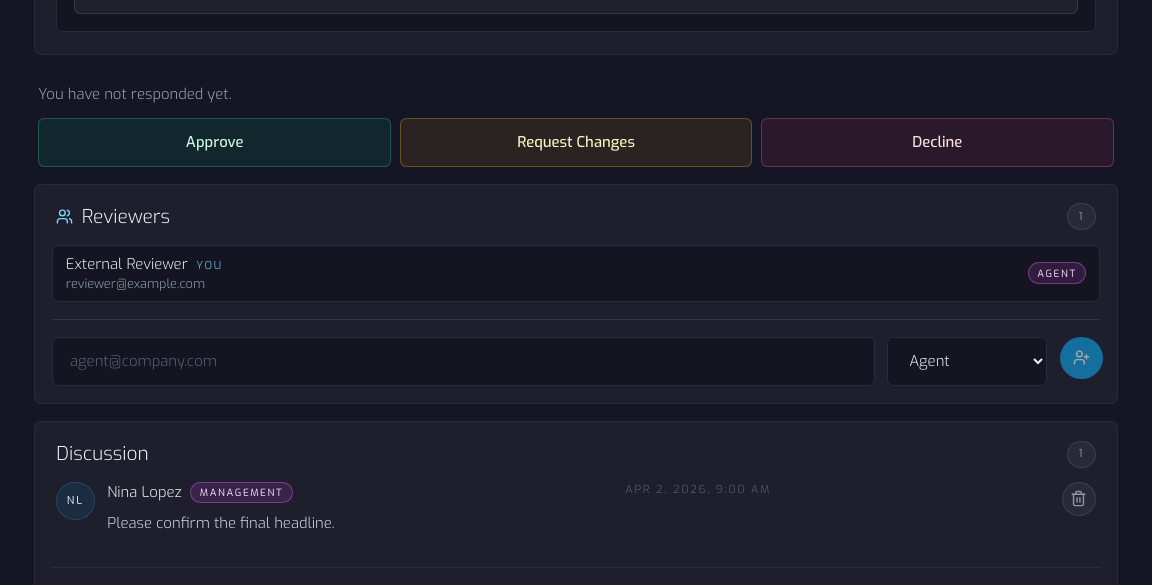
Test: ExternalReviewPage › lets an invited reviewer add another reviewer from the portal
This screenshot has width=1152, height=585.
(page scrolled)
Type "agent@example.com" into the field with placeholder "agent@company.com" at (463, 362), box x1=52 y1=337 x2=874 y2=386
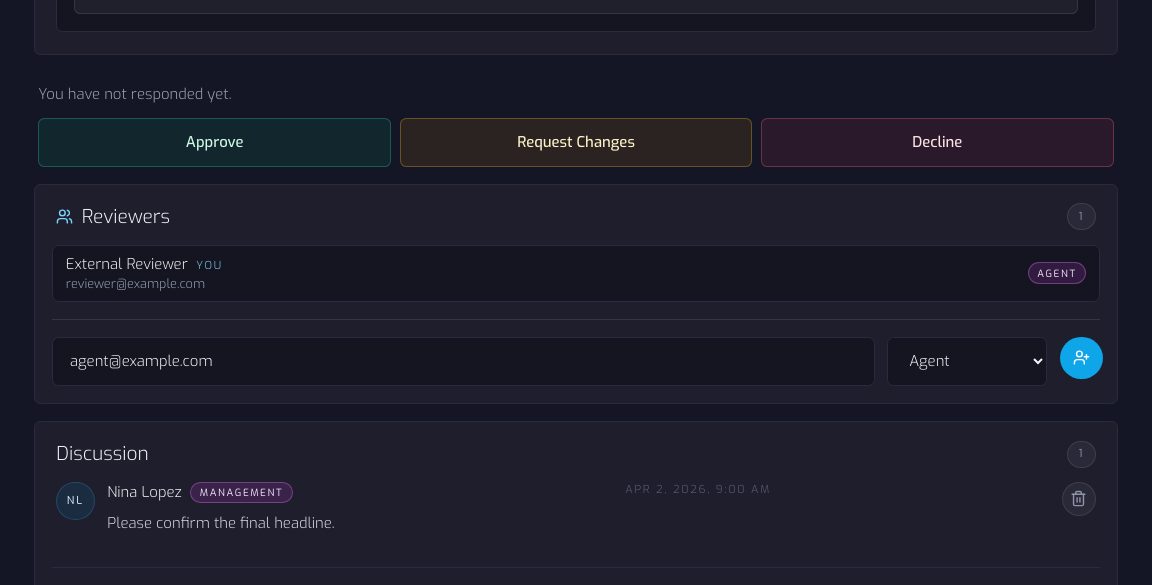
Click the button named "Add reviewer" at (1081, 358), box x1=1060 y1=337 x2=1102 y2=380
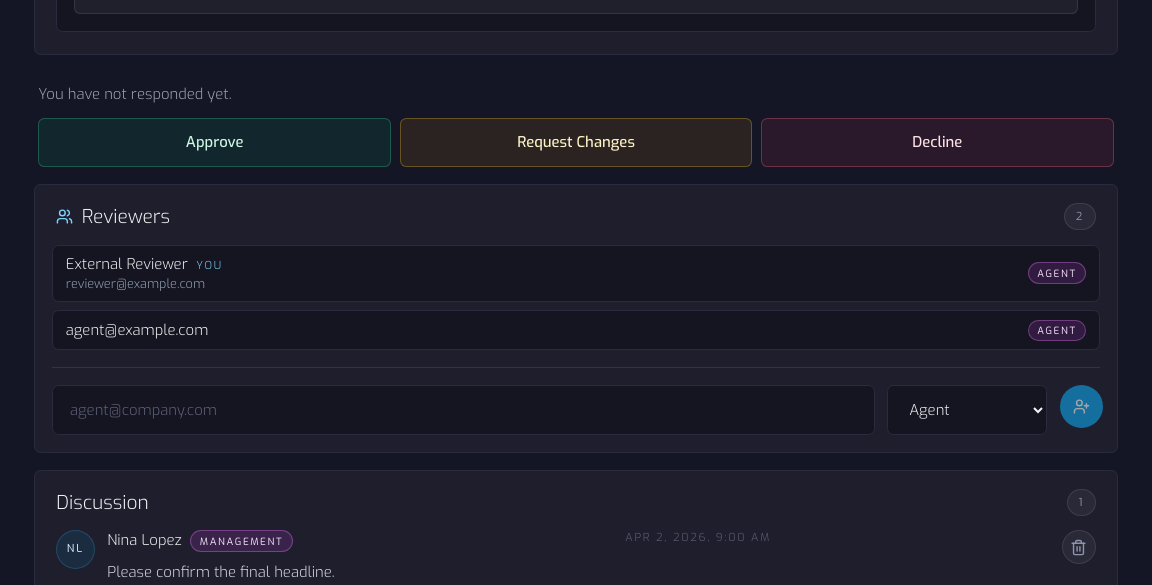
Check: the text "agent@example.com" is shown, box x1=66 y1=320 x2=208 y2=341
